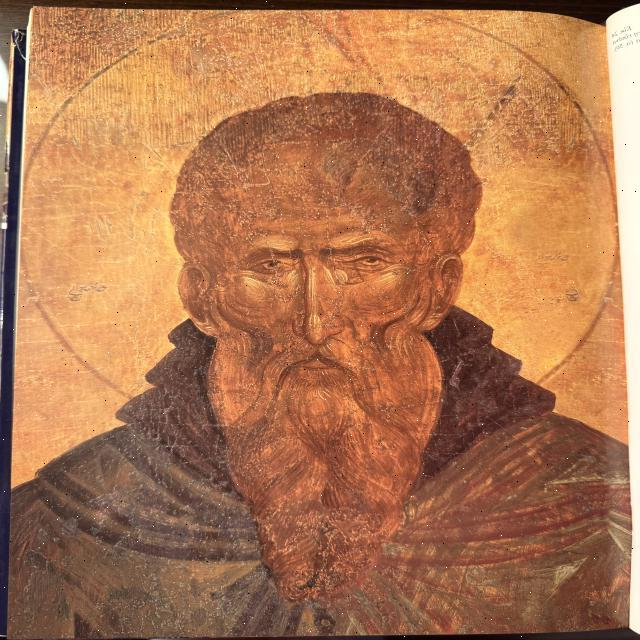aura: (22, 12, 618, 426)
saint: (6, 24, 606, 640)
